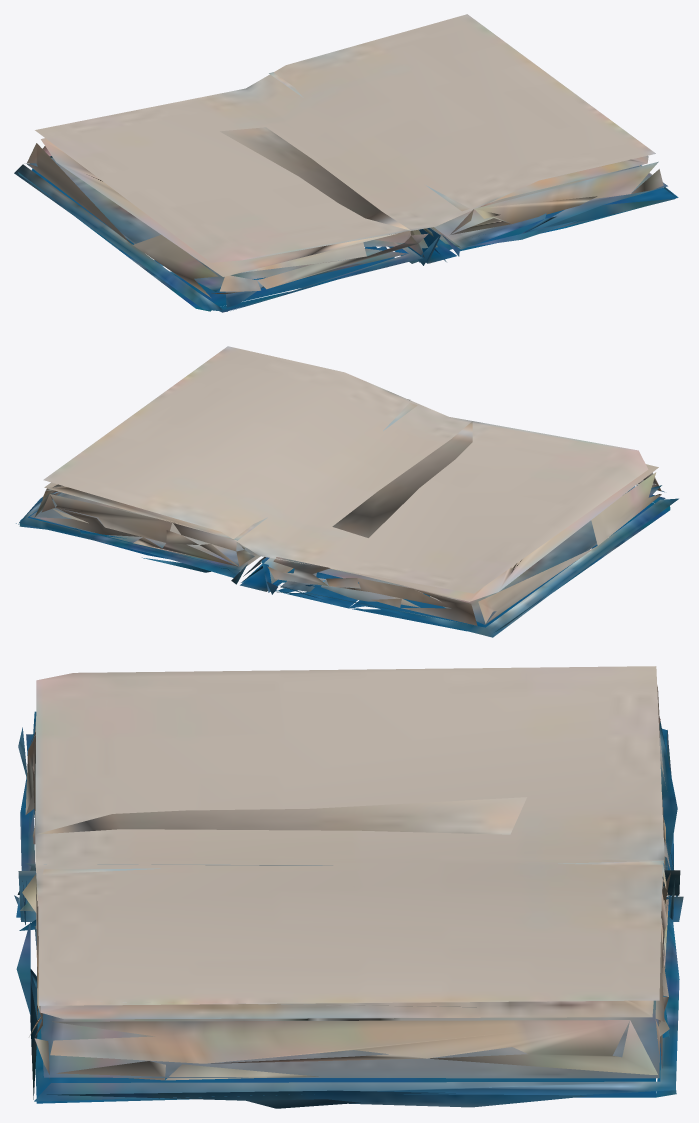
File: kinder_buch_lo.glb
3 renders of one model, top to bottom at view 1: azimuth 30°, elevation 25°; view 2: azimuth 150°, elevation 25°; view 3: azimuth 270°, elevation 25°, orthographic. The views are drawn at different scales.
Parts seen in each view (by area): view 1: Prop; view 2: Prop; view 3: Prop.
Boxes of the visible parts, x1=… form: Prop: x1=14, y1=14, x2=678, y2=312; Prop: x1=16, y1=346, x2=678, y2=637; Prop: x1=14, y1=666, x2=683, y2=1108.
Bounding box in the file's own units: 8.65 × 1.16 × 6.25.
Materials: 1 (1 with a texture image).
